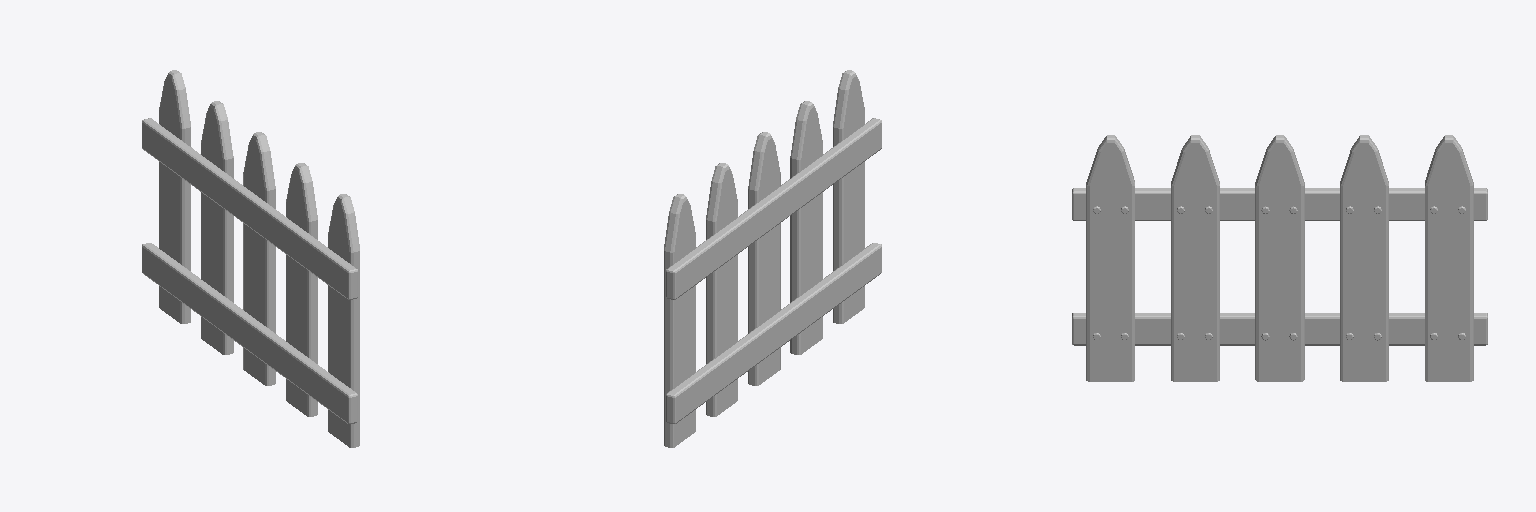
File: fance.obj
The picture shows the model from 3 angles: view 1: azimuth 30°, elevation 25°; view 2: azimuth 150°, elevation 25°; view 3: azimuth 270°, elevation 25°; orthographic projection.
Parts seen in each view (by area): view 1: Cube; view 2: Cube; view 3: Cube.
Part boxes in pixels (bbox=[...]): Cube: bbox=[142, 70, 359, 447]; Cube: bbox=[664, 70, 881, 447]; Cube: bbox=[1072, 135, 1487, 381].
Bounding box in the file's own units: 0.6085 × 6.34 × 9.85.